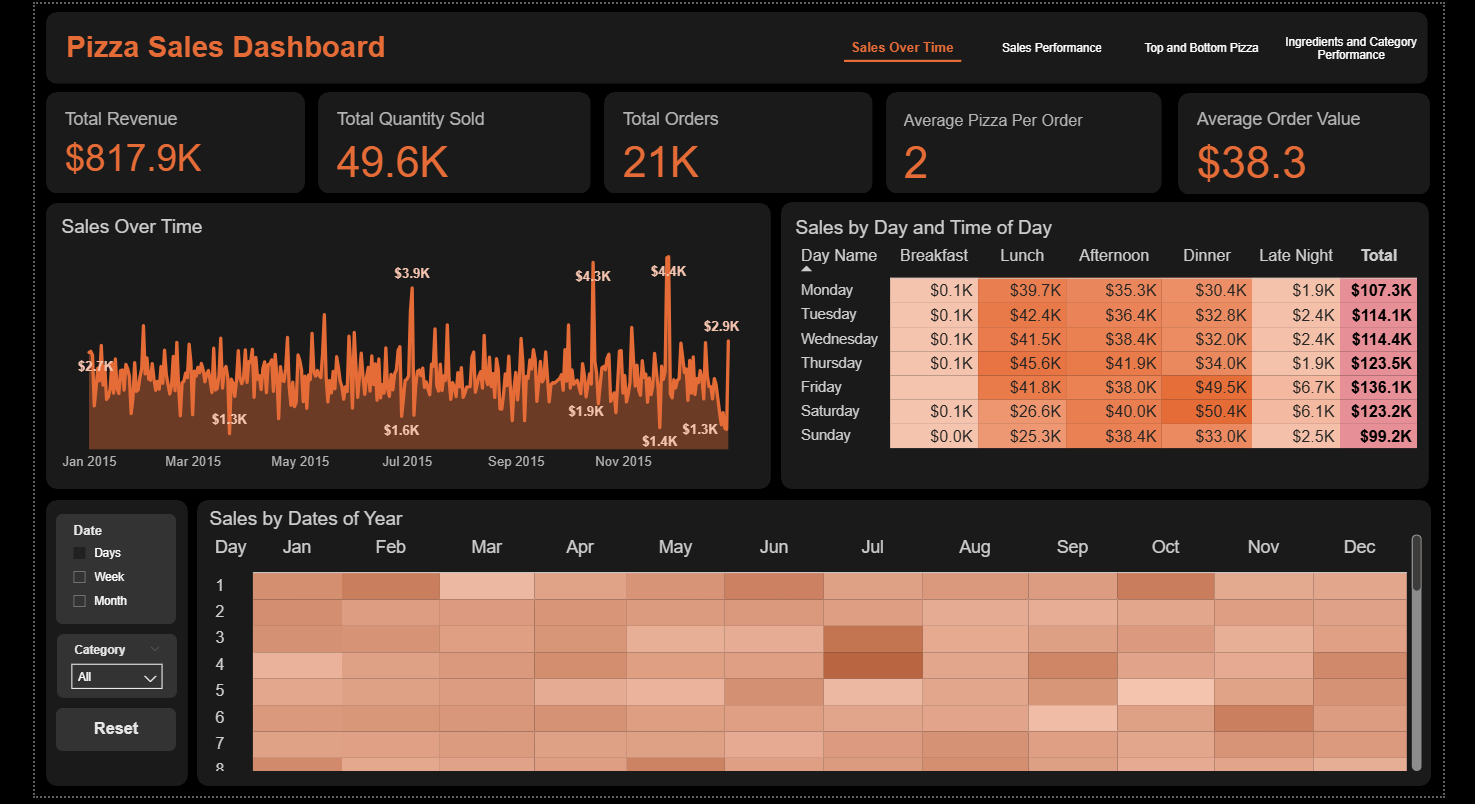

The page's visual inventory and layout, read from the dashboard file:
{"tool":"powerbi","page":{"name":"Sales Over Time","canvas":[1280,720],"ordinal":0},"visuals":[{"type":"shape","box":[146.6,179.8,1124.6,261.9],"z":0},{"type":"shape","box":[10.7,449.4,617.6,262.6],"z":1000},{"type":"shape","box":[9.7,179.9,129.4,261.6],"z":2000},{"type":"shape","box":[0,0,1279.7,72.5],"z":3000},{"type":"shape","box":[9.9,79.7,235.5,92.2],"z":4000},{"type":"shape","box":[257,79.7,248.1,92.2],"z":5000},{"type":"shape","box":[517.6,79.7,244.5,92.2],"z":6000},{"type":"shape","box":[773.7,79.7,250.7,92.2],"z":7000},{"type":"shape","box":[1038.8,80.6,229.3,92.2],"z":8000},{"type":"cardVisual","fields":{"Data":["Sheet1.Total Revenue"]},"box":[9.9,78.8,189.9,95.8],"z":9000},{"type":"cardVisual","fields":{"Data":["Sheet1.Total Quantity Sold"]},"box":[257,82.4,252.5,92.2],"z":10000},{"type":"cardVisual","fields":{"Data":["Sheet1.Average Order Value"]},"box":[1031,79.8,237.3,94.3],"z":11000},{"type":"cardVisual","fields":{"Data":["Count(Sheet1.order_id)"]},"box":[513.6,82.7,252.9,98.2],"z":12000},{"type":"cardVisual","title":"Avg Time Per Order","fields":{"Data":["Sheet1.Average Unit Per Order"]},"box":[773.3,80.7,239.3,91.4],"z":13000},{"type":"lineChart","title":"Sales Over Time","fields":{"Category":["DateTable.Date"],"Y":["Sheet1.Total Revenue"]},"box":[154.4,192.5,1108,239.4],"z":14000},{"type":"slicer","fields":{"Values":["Parameter.Parameter"]},"box":[18.5,192.6,108.9,99.2],"z":15000},{"type":"pivotTable","title":"Sales by Day and Time of Day","fields":{"Values":["Sheet1.Total Revenue"],"Columns":["Time Range Table For Order.Time Range"],"Rows":["DateTable.Day Name"]},"box":[18.5,458.1,599.1,247.1],"z":16000},{"type":"shape","box":[640,449.4,631.2,262.6],"z":17000},{"type":"slicer","fields":{"Values":["Sheet1.category"]},"box":[18.5,301.5,108.9,58.4],"z":18000},{"type":"textbox","box":[472.8,15.2,377,43],"z":19000},{"type":"columnChart","title":"Sales by Dates of Year","fields":{"Category":["DateTable.Year","DateTable.Day"],"Y":["Sheet1.Total Revenue"]},"box":[648.8,458.1,613.7,246.1],"z":20000}]}

Visuals, with their boxes on the page's 1280x720 design canvas (x1, y1, x2, y2). These are canvas units, not pixel positions in the 1475x804 screenshot, which may show the page scaled, cropped or inside an application window:
shape: locate(147, 180, 1271, 442)
shape: locate(11, 449, 628, 712)
shape: locate(10, 180, 139, 442)
shape: locate(0, 0, 1280, 72)
shape: locate(10, 80, 245, 172)
shape: locate(257, 80, 505, 172)
shape: locate(518, 80, 762, 172)
shape: locate(774, 80, 1024, 172)
shape: locate(1039, 81, 1268, 173)
cardVisual - Sheet1.Total Revenue: locate(10, 79, 200, 175)
cardVisual - Sheet1.Total Quantity Sold: locate(257, 82, 510, 175)
cardVisual - Sheet1.Average Order Value: locate(1031, 80, 1268, 174)
cardVisual - Count(Sheet1.order_id): locate(514, 83, 766, 181)
"Avg Time Per Order" cardVisual: locate(773, 81, 1013, 172)
"Sales Over Time" lineChart: locate(154, 192, 1262, 432)
slicer - Parameter.Parameter: locate(18, 193, 127, 292)
"Sales by Day and Time of Day" pivotTable: locate(18, 458, 618, 705)
shape: locate(640, 449, 1271, 712)
slicer - Sheet1.category: locate(18, 302, 127, 360)
textbox: locate(473, 15, 850, 58)
"Sales by Dates of Year" columnChart: locate(649, 458, 1262, 704)
